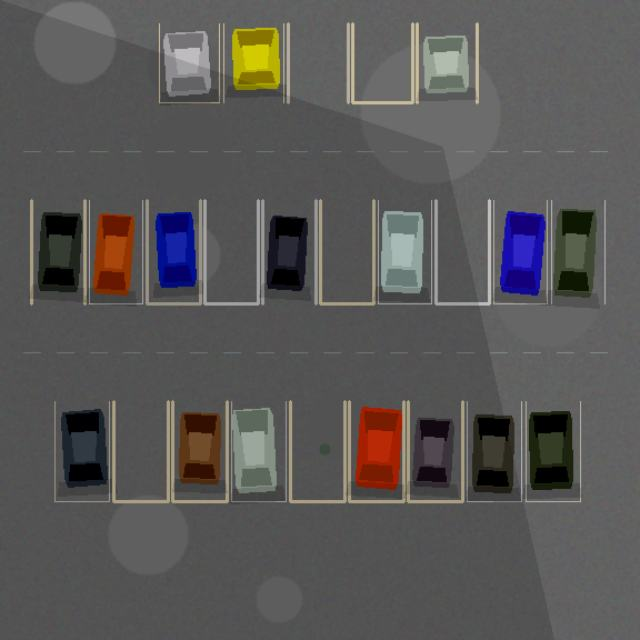space-empty: (204, 200, 258, 303), (113, 401, 168, 501), (320, 200, 373, 303), (436, 200, 489, 303), (290, 401, 344, 501), (288, 23, 348, 102), (352, 23, 412, 102)
space-occupied: (262, 200, 316, 303), (493, 200, 547, 303), (54, 401, 109, 501), (172, 401, 227, 501), (231, 401, 286, 501), (31, 200, 84, 303), (89, 200, 142, 303), (147, 200, 200, 303), (378, 200, 431, 303), (551, 200, 604, 303), (349, 401, 403, 501), (408, 401, 462, 501), (467, 401, 521, 501), (526, 401, 580, 501), (159, 23, 219, 102), (223, 23, 283, 102), (417, 23, 477, 102)
